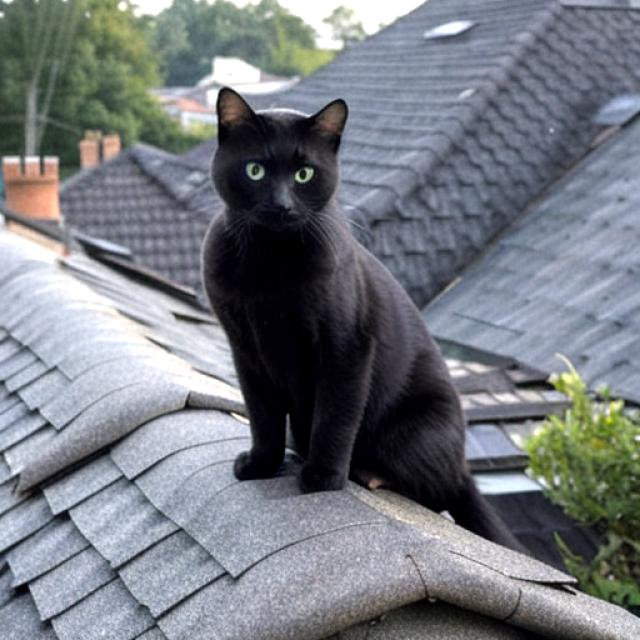cat: (188, 82, 548, 560)
